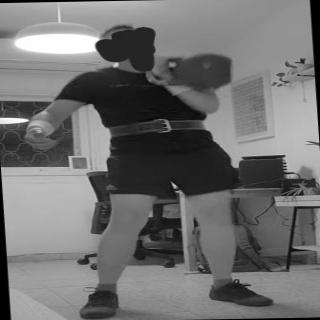kettlebell: (138, 51, 238, 94)
